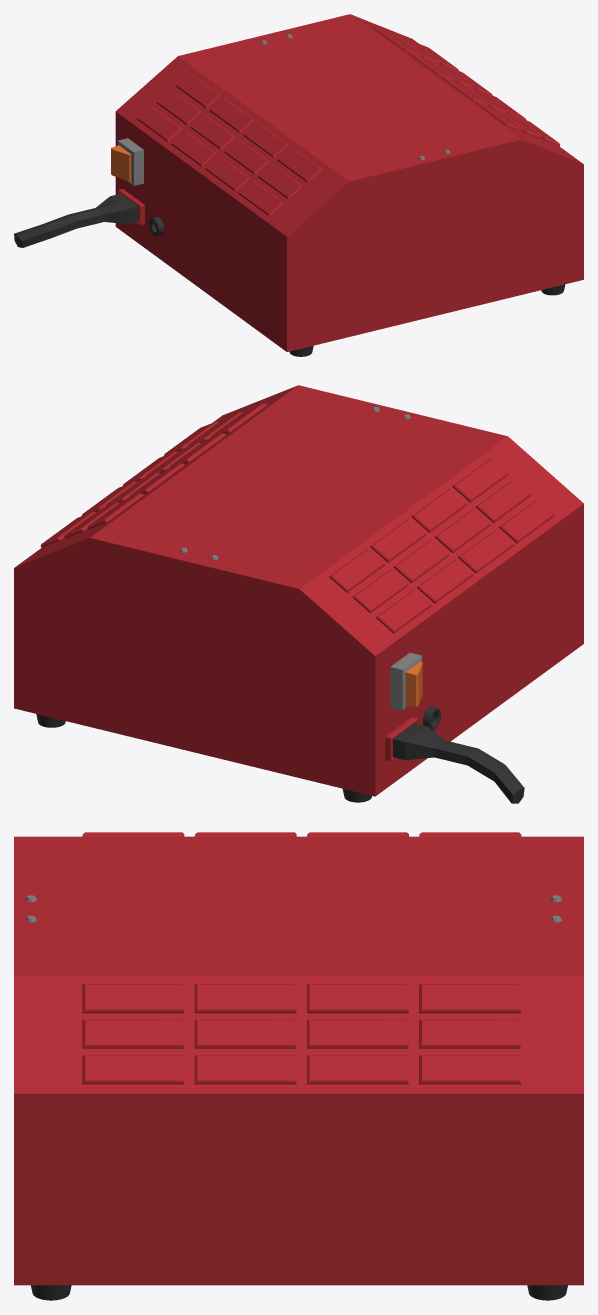
The model's file is arm3_base.glb.
3 renders of one model, top to bottom at view 1: azimuth 30°, elevation 25°; view 2: azimuth 150°, elevation 25°; view 3: azimuth 270°, elevation 25°, orthographic. The views are drawn at different scales.
Visible parts, largest first — view 1: base; view 2: base; view 3: base.
Part boxes in pixels (left/top/right/bottom): base: left=14, top=14, right=583, bottom=356; base: left=14, top=385, right=583, bottom=803; base: left=14, top=832, right=583, bottom=1300.
Bounding box in the file's own units: 0.1792 × 0.0723 × 0.1311.
